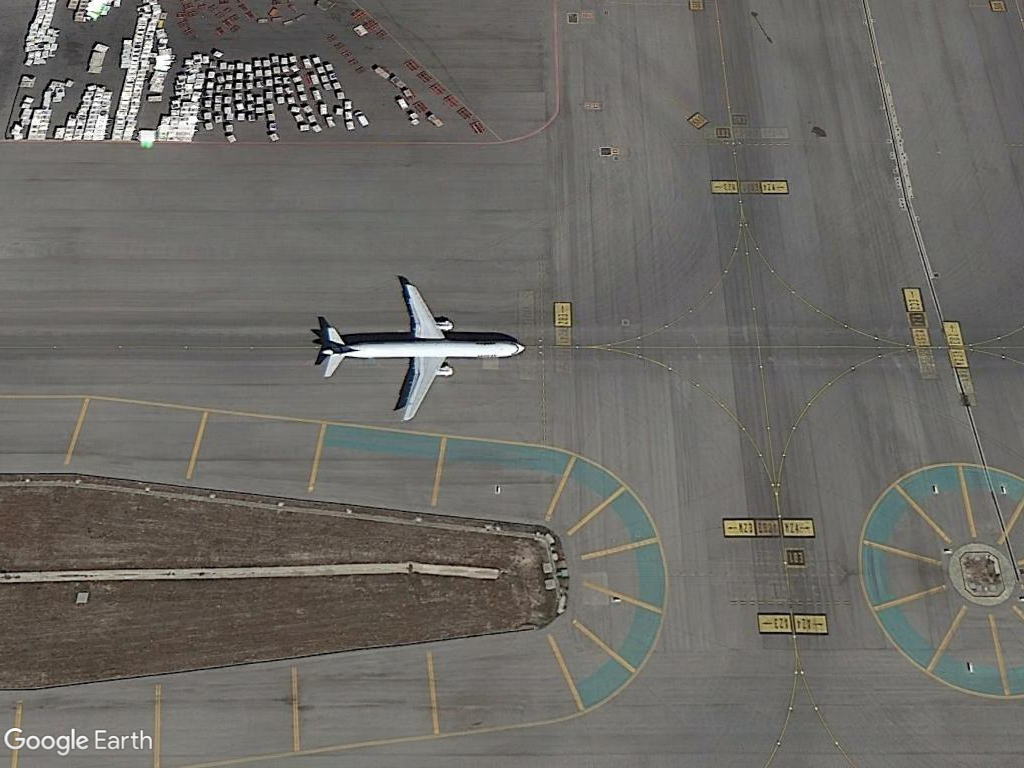airliner: (305, 279, 530, 428)
